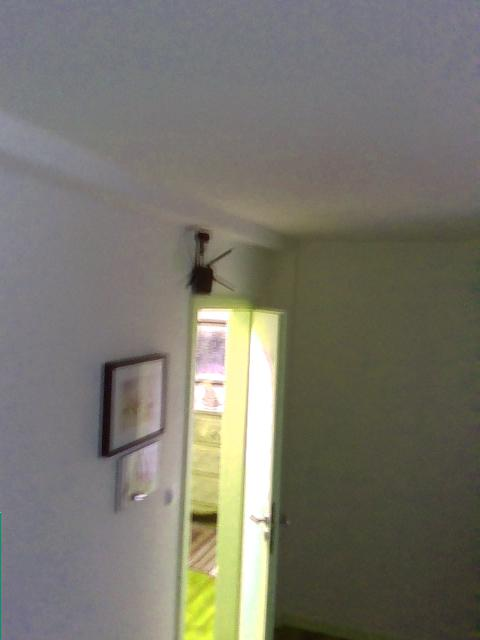semi_door: (176, 293, 291, 639)
